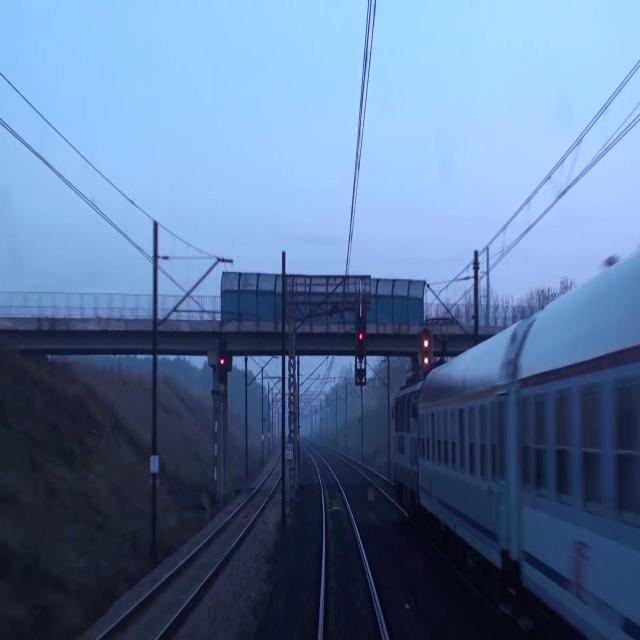rail-track: (105, 459, 281, 639), (317, 459, 383, 639), (375, 478, 392, 493)
